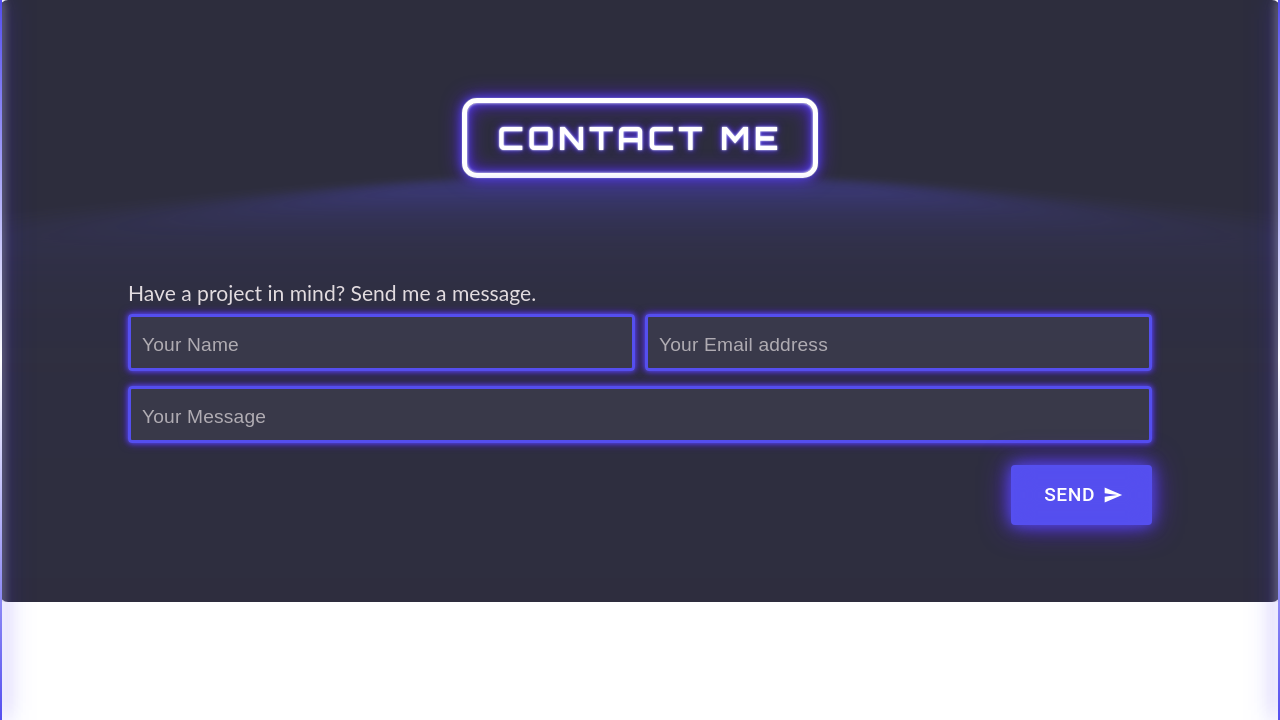
Scenario: empty contact fields do not send a message
The width and height of the screenshot is (1280, 720).
Click the button "SEND" at (1082, 495), box [1011,465,1152,525]
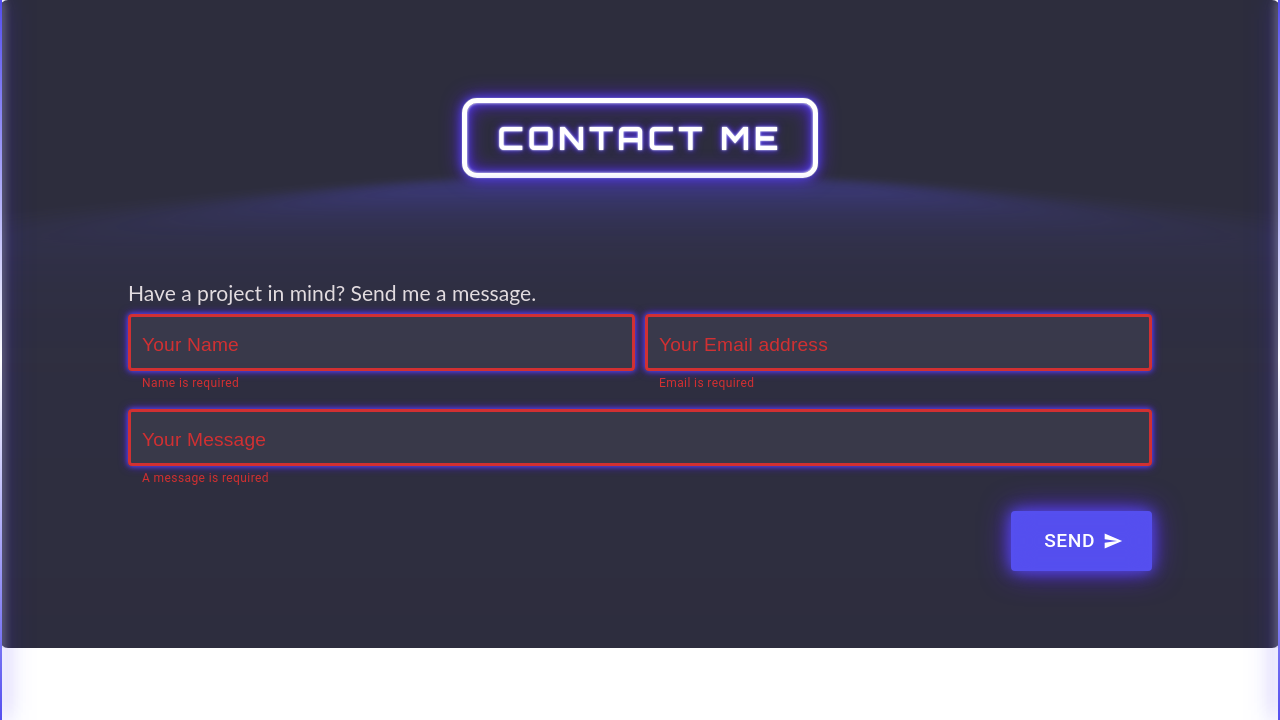
Expected: the text "Name is required" is shown, [142,376,239,390]
Expected: the text "Email is required" is shown, [659,376,754,390]
Expected: the text "A message is required" is shown, [142,471,269,485]
